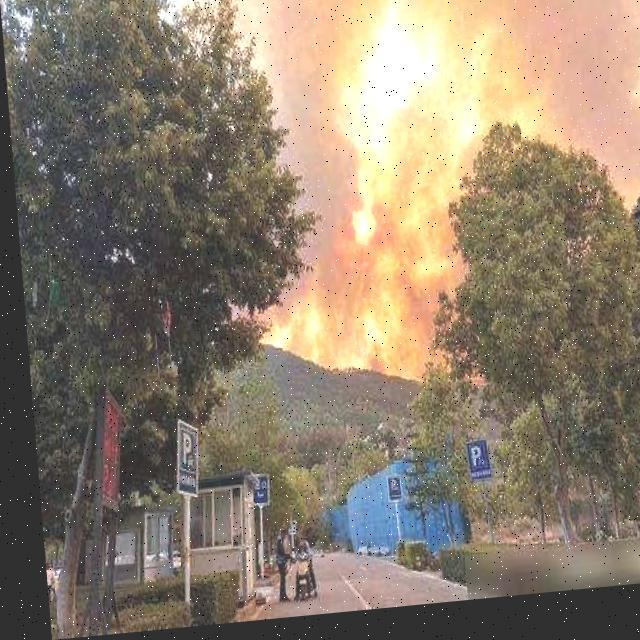Fire: (231, 21, 505, 407)
